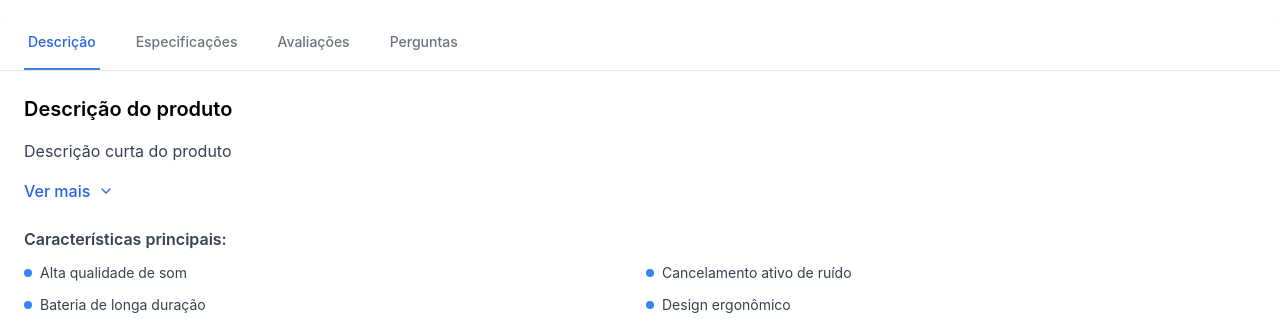
Test: ProductDescription › Specifications Tab › should show message when no specifications available
This screenshot has width=1280, height=330.
Step 1. Click the tab "Especificações" → coordinates (186, 43), box [132,16,241,70]
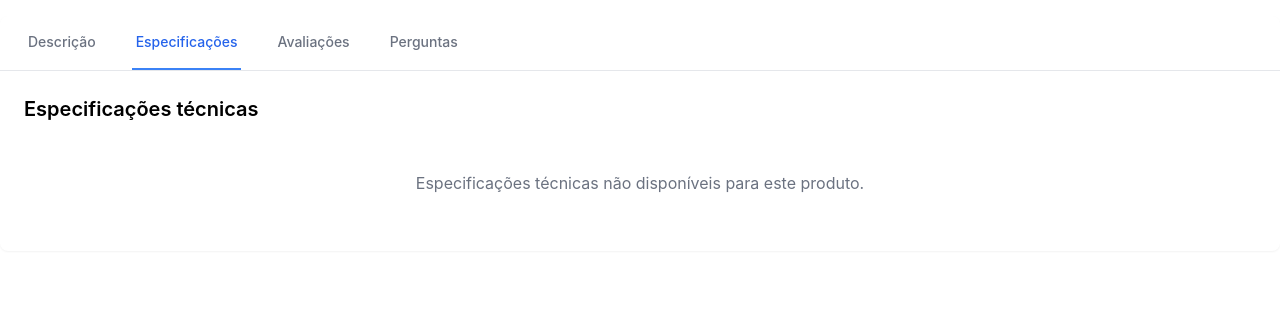
Expected: the text "Especificações técnicas não disponíveis para este produto." is shown, [416,173,864,193]
